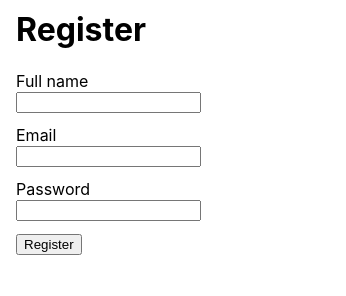
Test case: Register › shows a duplicate email error from the API
The width and height of the screenshot is (346, 296).
Type "Alex Student" into the field labelled "Full name" at (108,102), box [16,92,201,113]
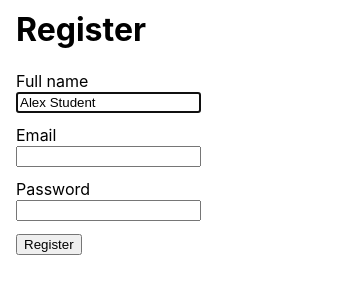
Type "alex@queuesmart.edu" into the field labelled "Email" at (108,156), box [16,146,201,167]
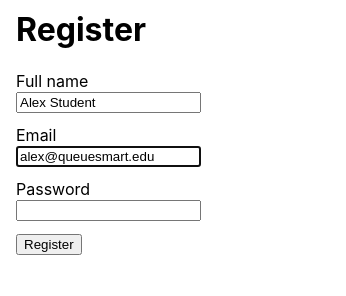
Type "password123" into the password field labelled "Password" at (108,210), box [16,200,201,221]
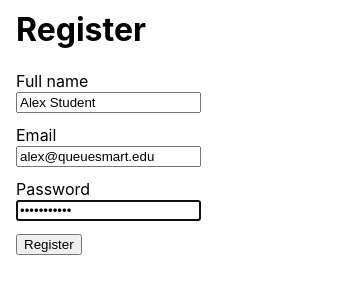
Click the button "Register" at (49,244), box [16,234,82,255]
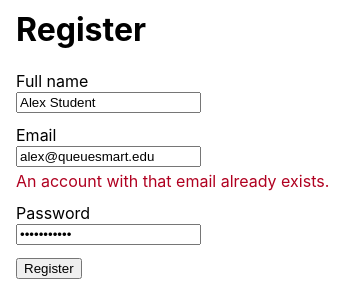
Result: the text "An account with that email already exists." is shown at [16,171,329,191]
